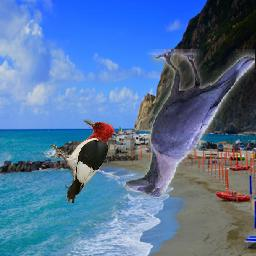Crow: (127, 49, 256, 197)
Woodpecker: (51, 119, 116, 204)
